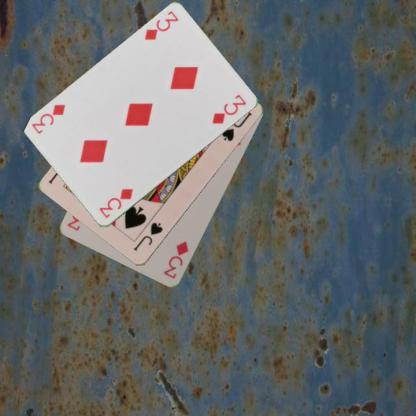3d: (96, 186, 134, 220), (142, 9, 180, 42), (161, 239, 190, 280)
Js: (131, 219, 164, 252)
